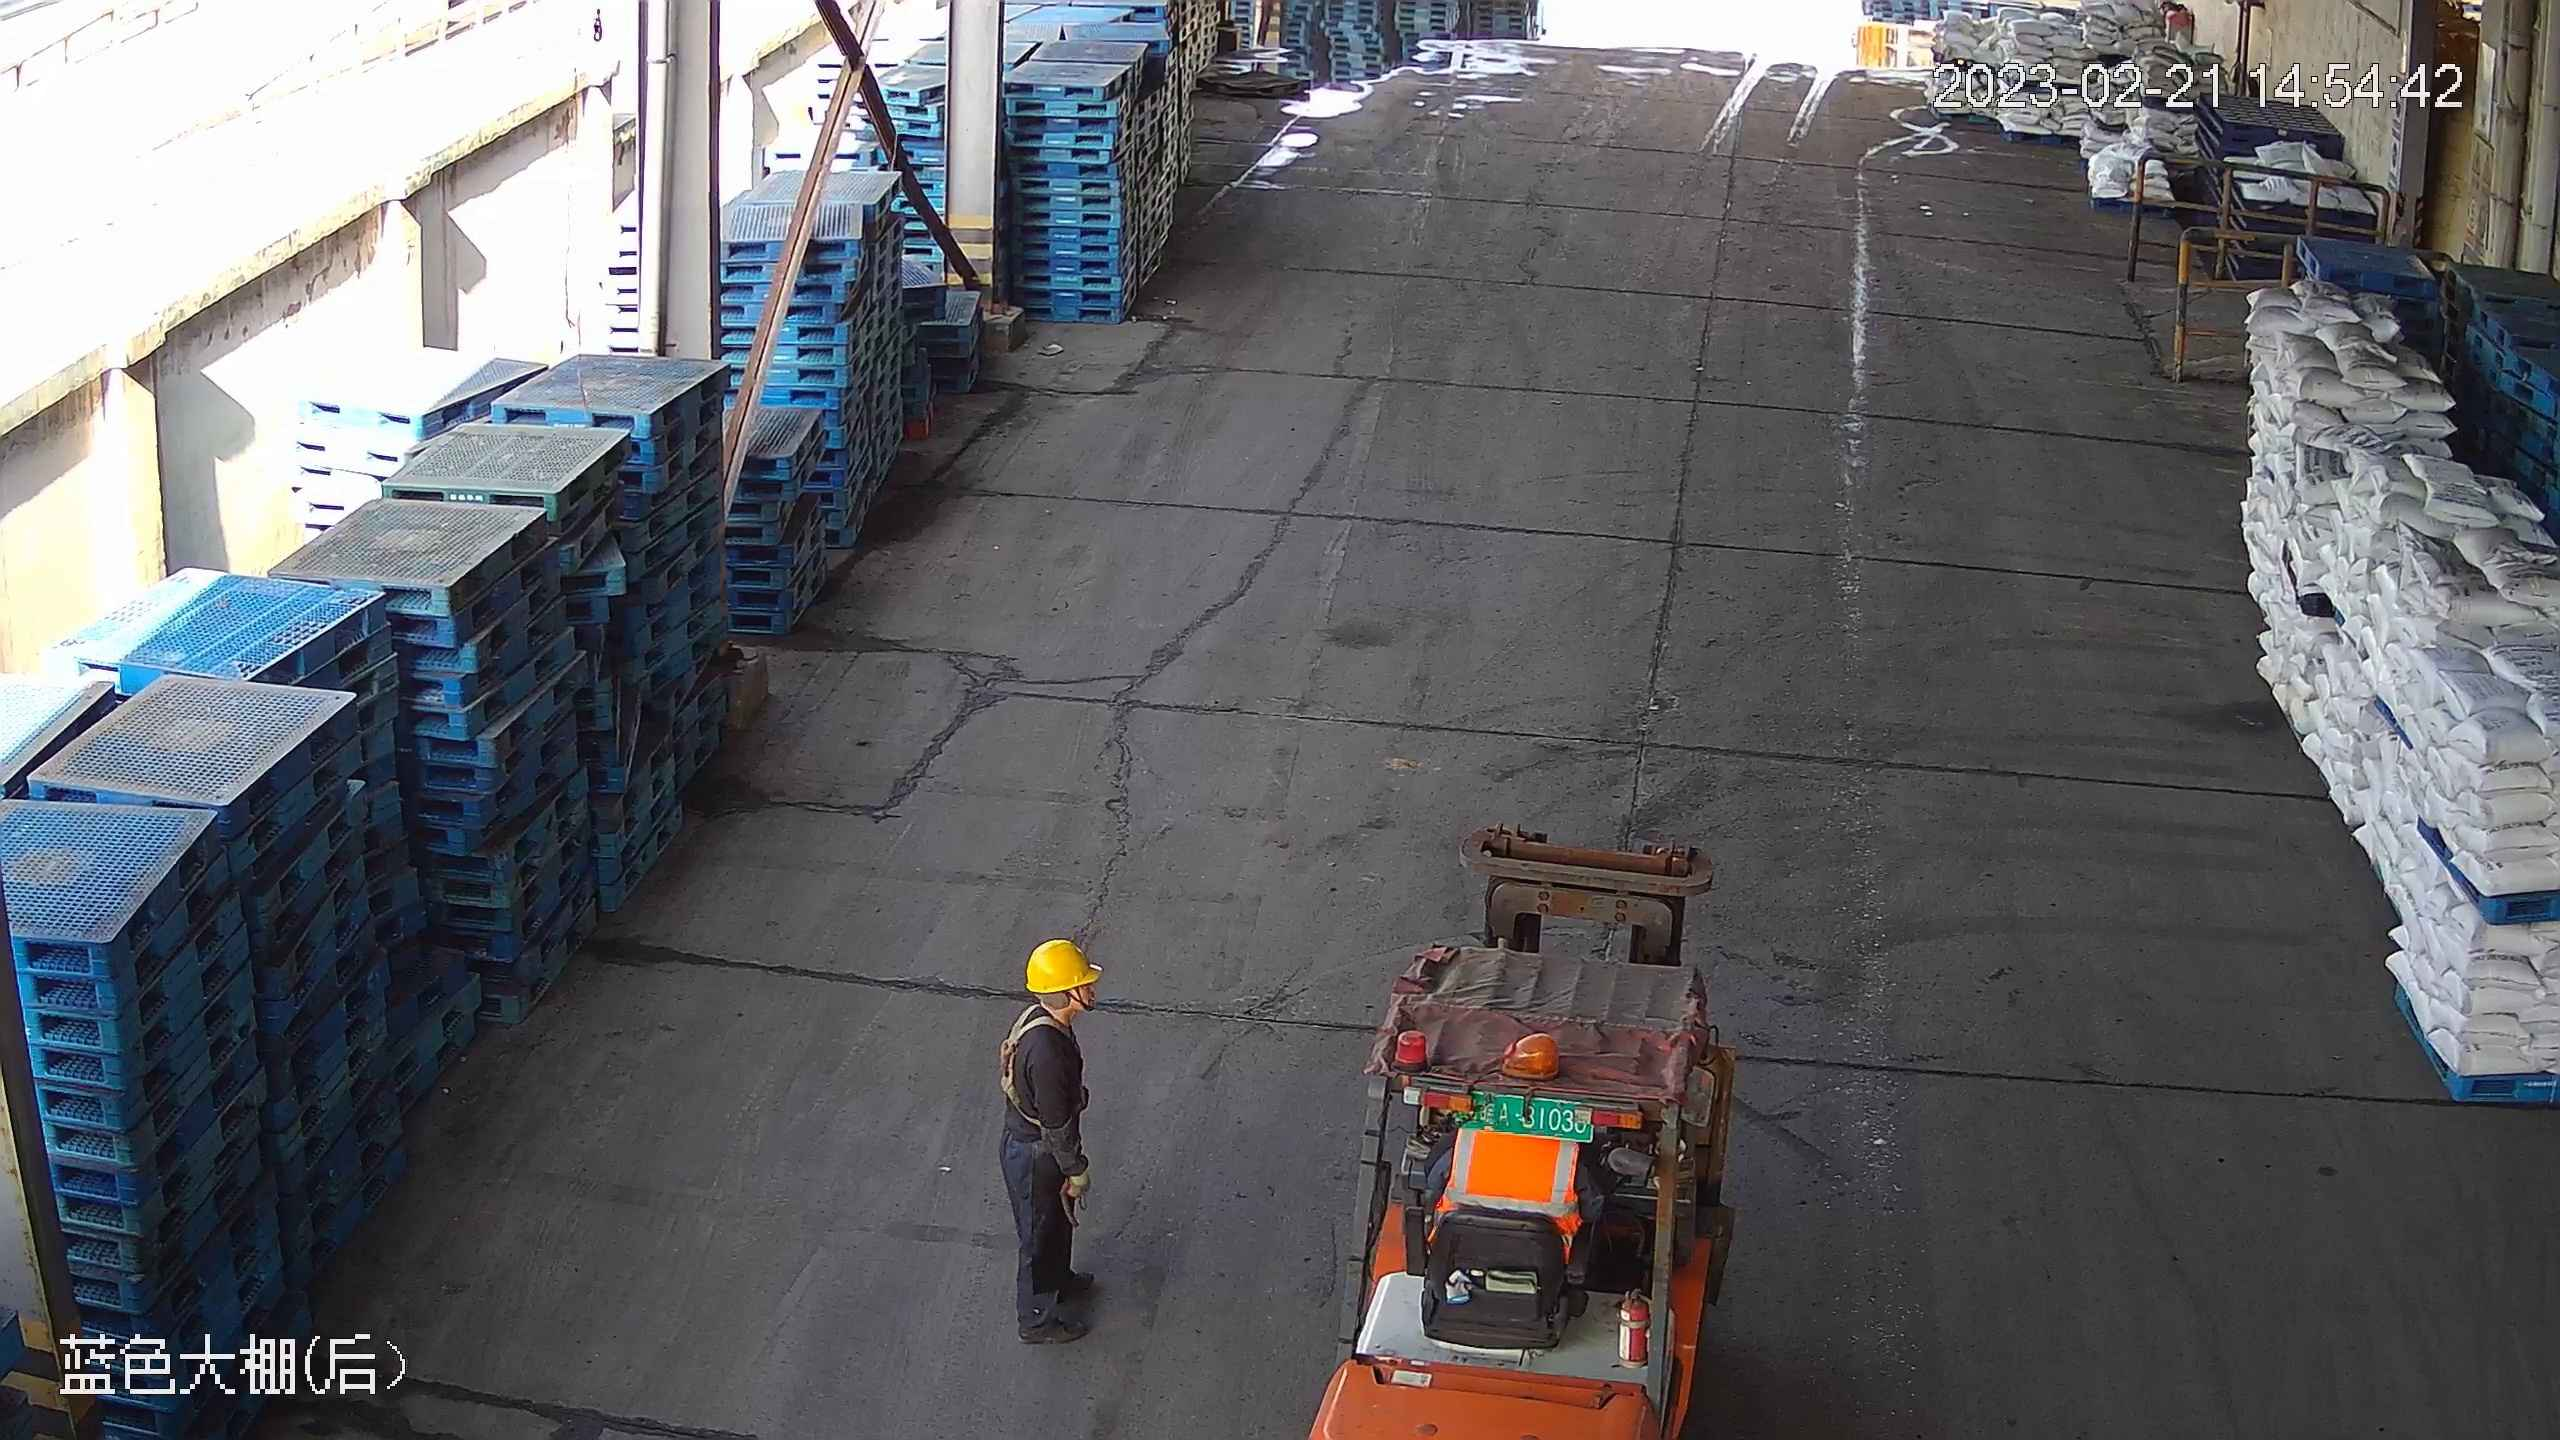belt: (988, 1001, 1068, 1108)
head: (999, 942, 1116, 1092)
helmet: (1014, 931, 1103, 999)
people: (983, 932, 1153, 1344)
